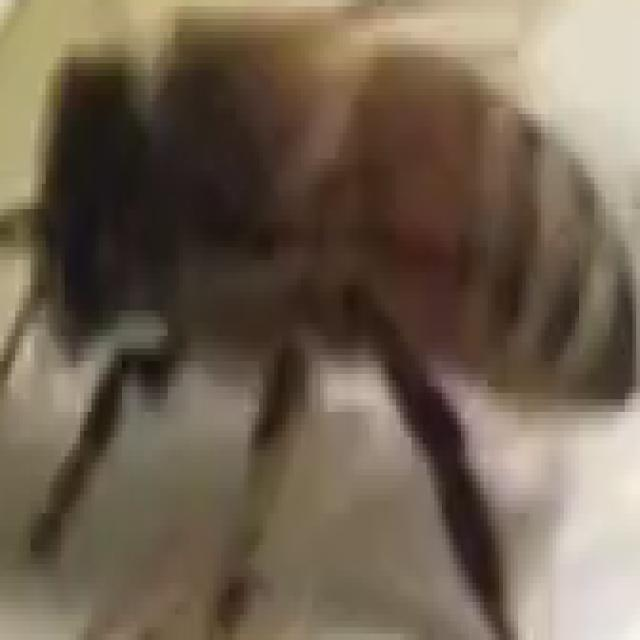honeybee: (28, 12, 636, 562)
